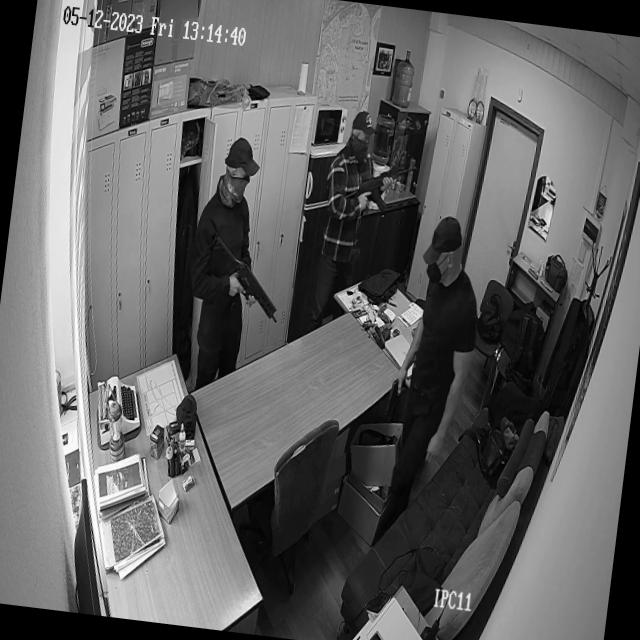gun: (202, 229, 288, 323), (346, 154, 418, 212), (384, 373, 407, 423)
person with a gun: (390, 182, 516, 522), (180, 115, 282, 394), (307, 103, 388, 340)
